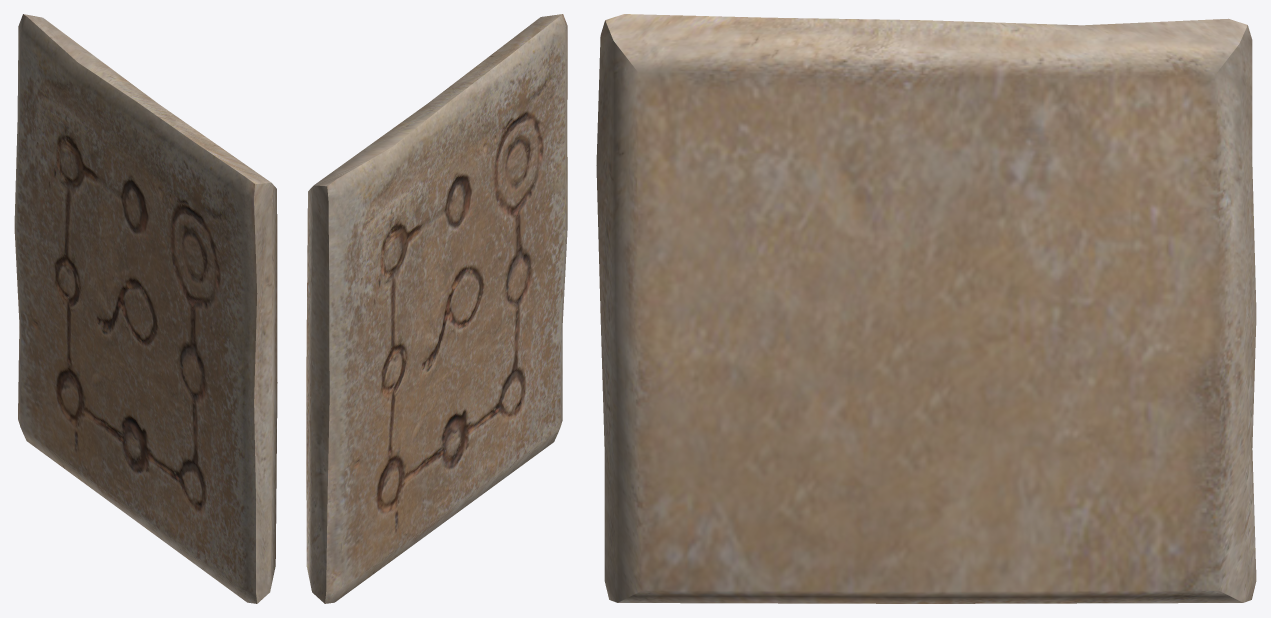
The model's file is side_left.obj.
The picture shows the model from 3 angles, left to right: view 1: azimuth 30°, elevation 25°; view 2: azimuth 150°, elevation 25°; view 3: azimuth 270°, elevation 25°; orthographic projection. The views are drawn at different scales.
Visible parts, largest first — view 1: left polySurface5 polySurface3 polySurface1 pCube1; view 2: left polySurface5 polySurface3 polySurface1 pCube1; view 3: left polySurface5 polySurface3 polySurface1 pCube1.
Boxes of the visible parts, bbox=[...] form: left polySurface5 polySurface3 polySurface1 pCube1: bbox=[14, 14, 277, 603]; left polySurface5 polySurface3 polySurface1 pCube1: bbox=[306, 14, 567, 603]; left polySurface5 polySurface3 polySurface1 pCube1: bbox=[596, 14, 1256, 603].
Size of the model in its own units: 0.5102 by 4.81 by 4.91.
